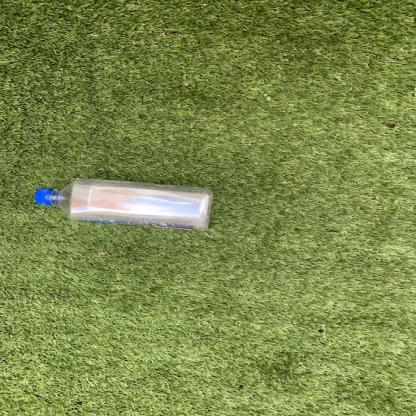trash: (36, 179, 213, 232)
